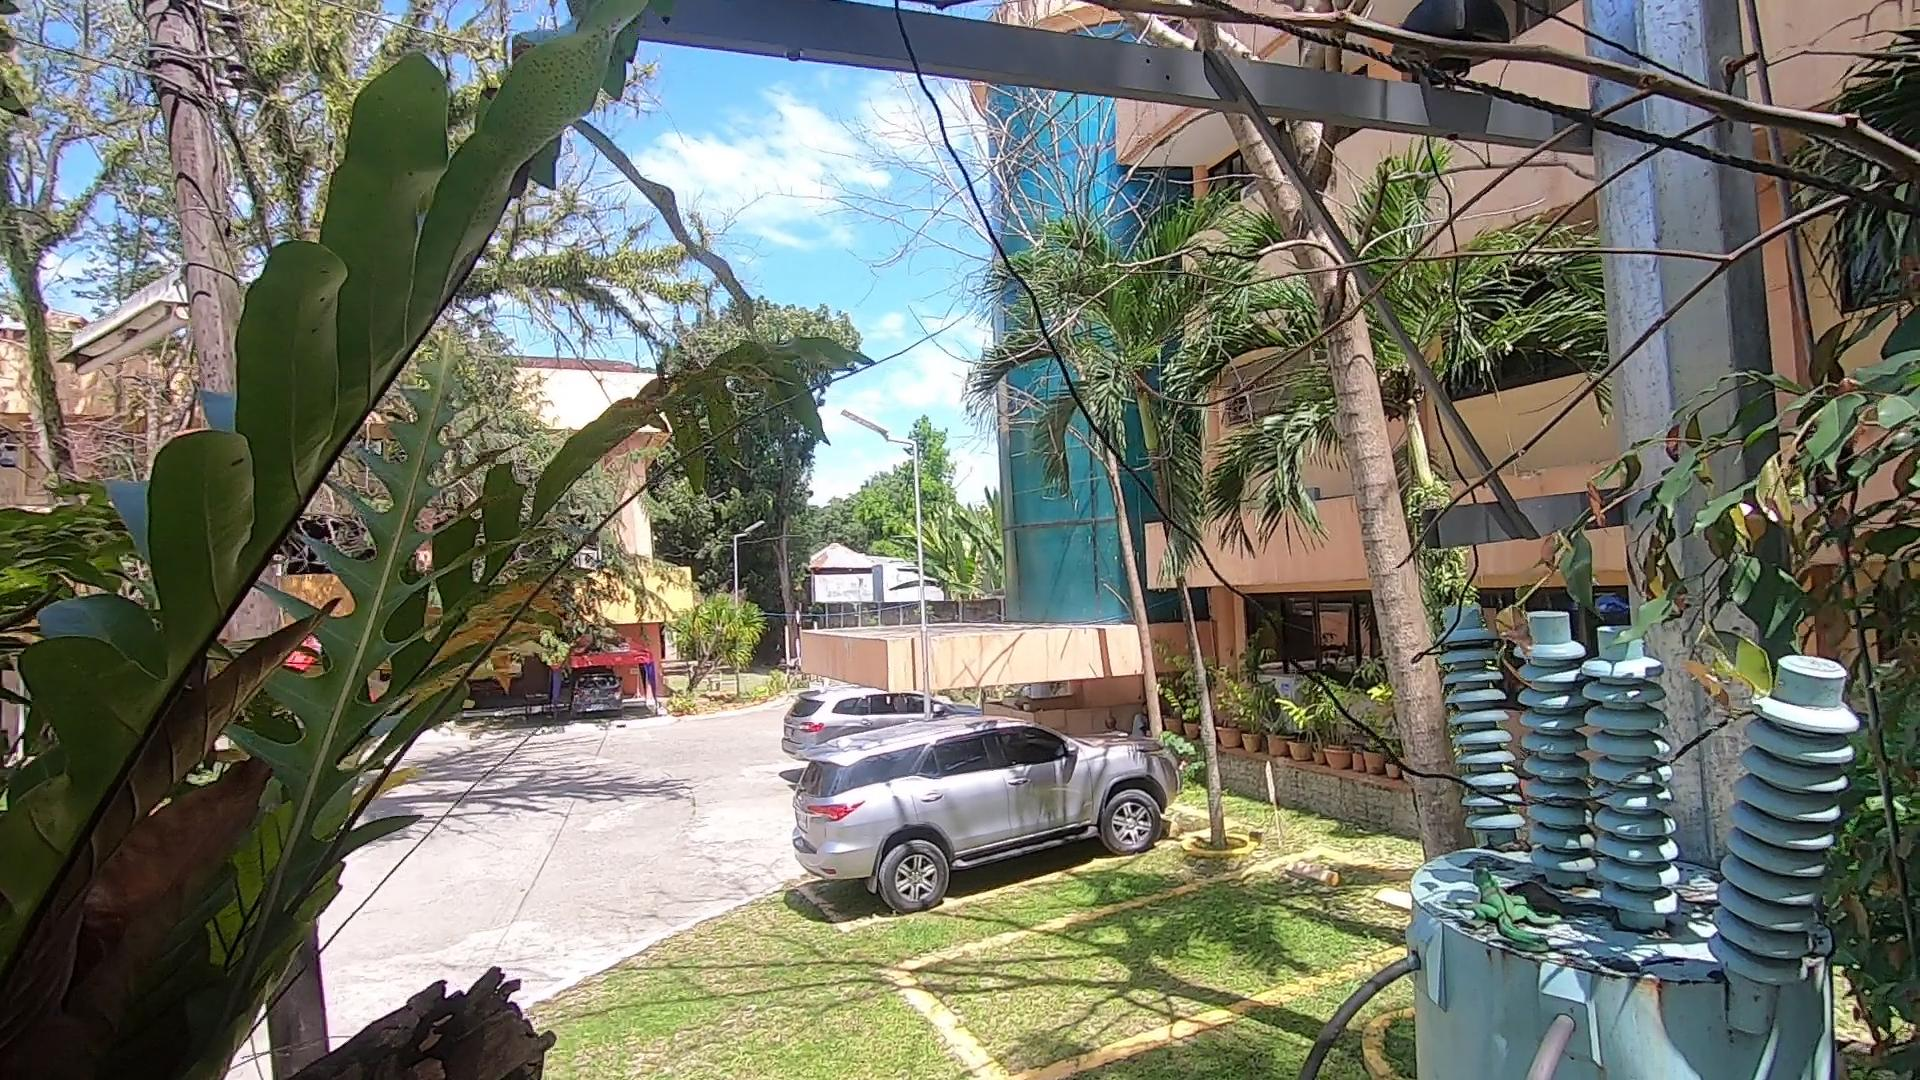leaf: (1511, 870, 1571, 909)
tree branch: (895, 1, 1917, 574)
